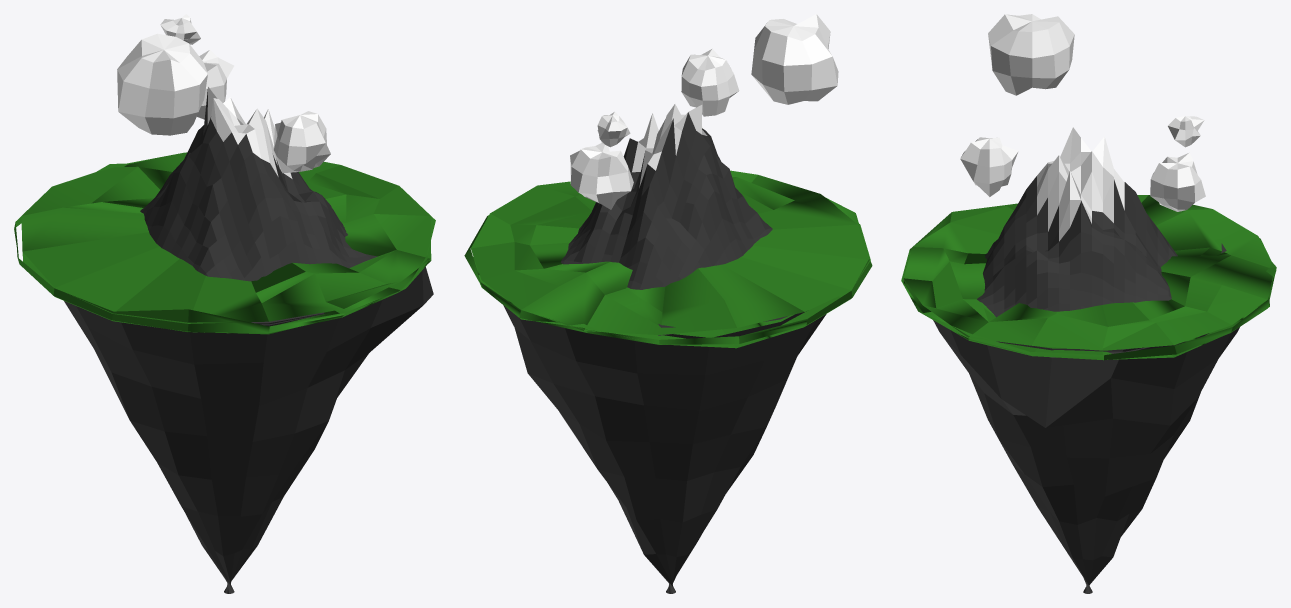
The model's file is island_4.fbx.
3 renders of one model, left to right at view 1: azimuth 30°, elevation 25°; view 2: azimuth 150°, elevation 25°; view 3: azimuth 270°, elevation 25°, orthographic. The views are drawn at different scales.
Parts seen in each view (by area): view 1: Cone, Cylinder, Landscape, Sphere_1, Sphere, Sphere_2, Sphere_3; view 2: Cone, Cylinder, Landscape, Sphere_1, Sphere_2, Sphere, Sphere_3; view 3: Cone, Cylinder, Landscape, Sphere_1, Sphere_2, Sphere, Sphere_3.
Part boxes in pixels (<box>): Cone: <box>64,266,433,593</box>; Cylinder: <box>14,152,435,334</box>; Landscape: <box>140,87,377,281</box>; Sphere_1: <box>117,33,207,135</box>; Sphere: <box>273,111,330,173</box>; Sphere_2: <box>197,50,233,119</box>; Sphere_3: <box>160,14,200,44</box>; Cone: <box>503,305,826,593</box>; Cylinder: <box>464,170,872,348</box>; Landscape: <box>561,104,772,289</box>; Sphere_1: <box>751,14,838,104</box>; Sphere_2: <box>570,143,633,209</box>; Sphere: <box>681,48,739,116</box>; Sphere_3: <box>597,111,630,147</box>; Cone: <box>933,243,1239,593</box>; Cylinder: <box>901,195,1276,360</box>; Landscape: <box>977,127,1177,317</box>; Sphere_1: <box>988,14,1074,95</box>; Sphere_2: <box>1150,152,1205,211</box>; Sphere: <box>960,137,1018,196</box>; Sphere_3: <box>1168,116,1204,147</box>.
Size of the model in its own units: 218 by 338 by 217.
